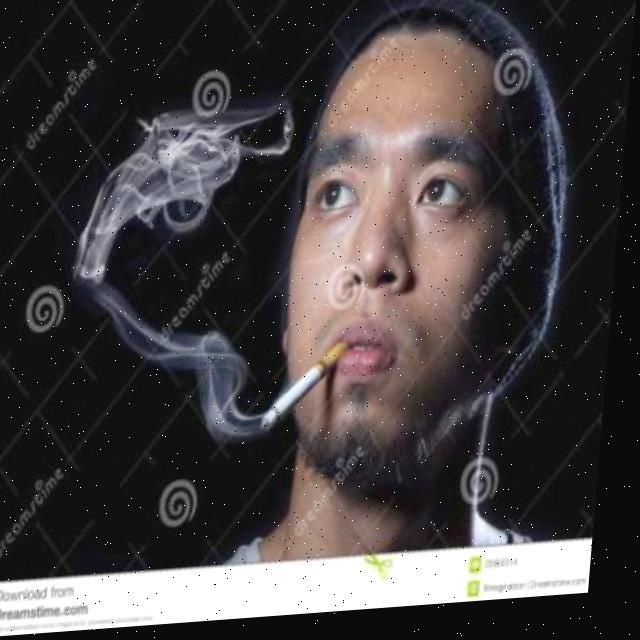cigarette: (266, 348, 355, 437)
